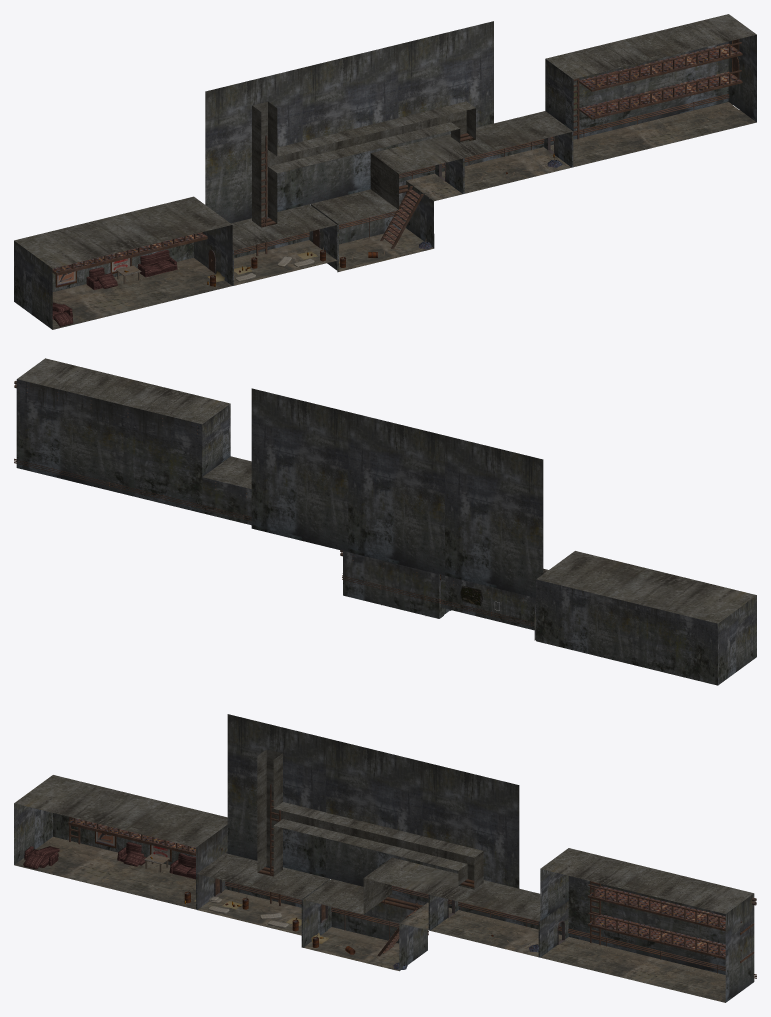
The model's file is Location1BLife.FBX.
3 views of the same model, one above another, from view 1: azimuth 30°, elevation 25°; view 2: azimuth 150°, elevation 25°; view 3: azimuth 330°, elevation 25° (orthographic).
Parts seen in each view (by area): view 1: Box28, Box47, Box04; view 2: Box28, Box47; view 3: Box28, Box47, Box04.
Boxes of the visible parts, x1=… form: Box28: x1=14, y1=14, x2=756, y2=329; Box47: x1=52, y1=39, x2=742, y2=275; Box04: x1=52, y1=153, x2=562, y2=326; Box28: x1=16, y1=358, x2=756, y2=685; Box47: x1=14, y1=381, x2=534, y2=626; Box28: x1=14, y1=714, x2=754, y2=1002; Box47: x1=68, y1=784, x2=756, y2=978; Box04: x1=23, y1=831, x2=538, y2=969.
Bounding box in the file's own units: 2052 × 515 × 195.
